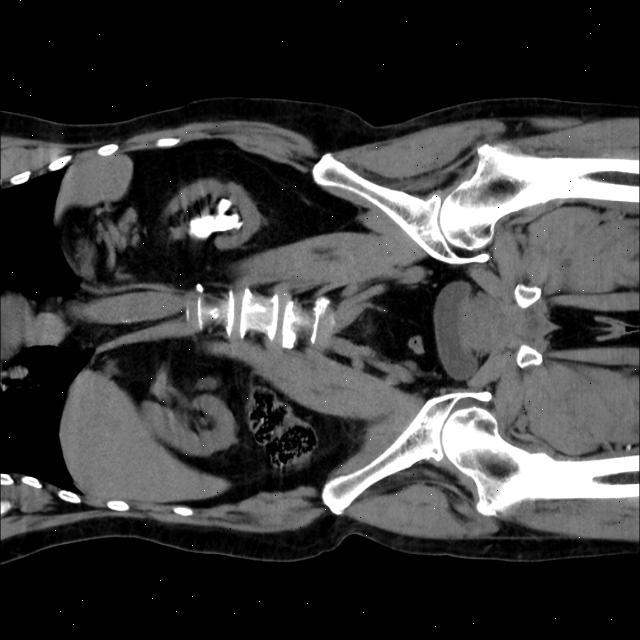kidneystone: (189, 197, 242, 238), (196, 282, 204, 292)
